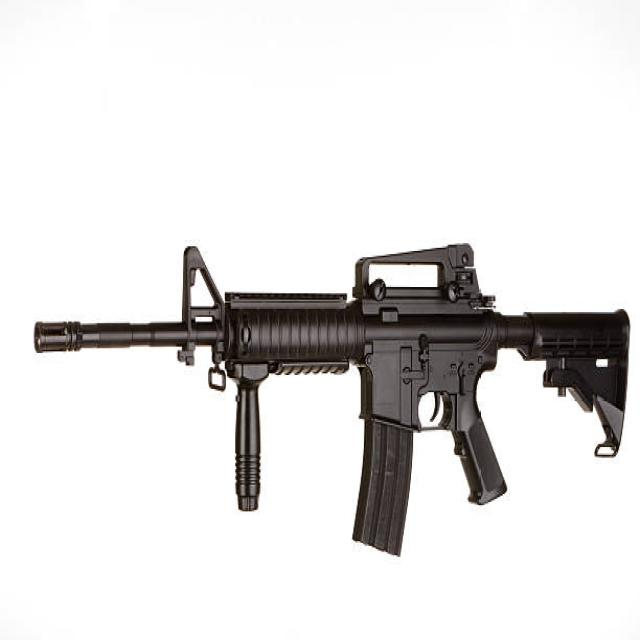rifle: (31, 241, 636, 568)
